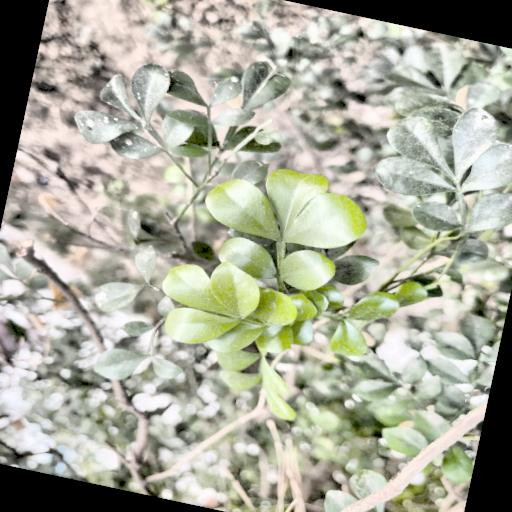la xanh: (140, 142, 365, 426)
